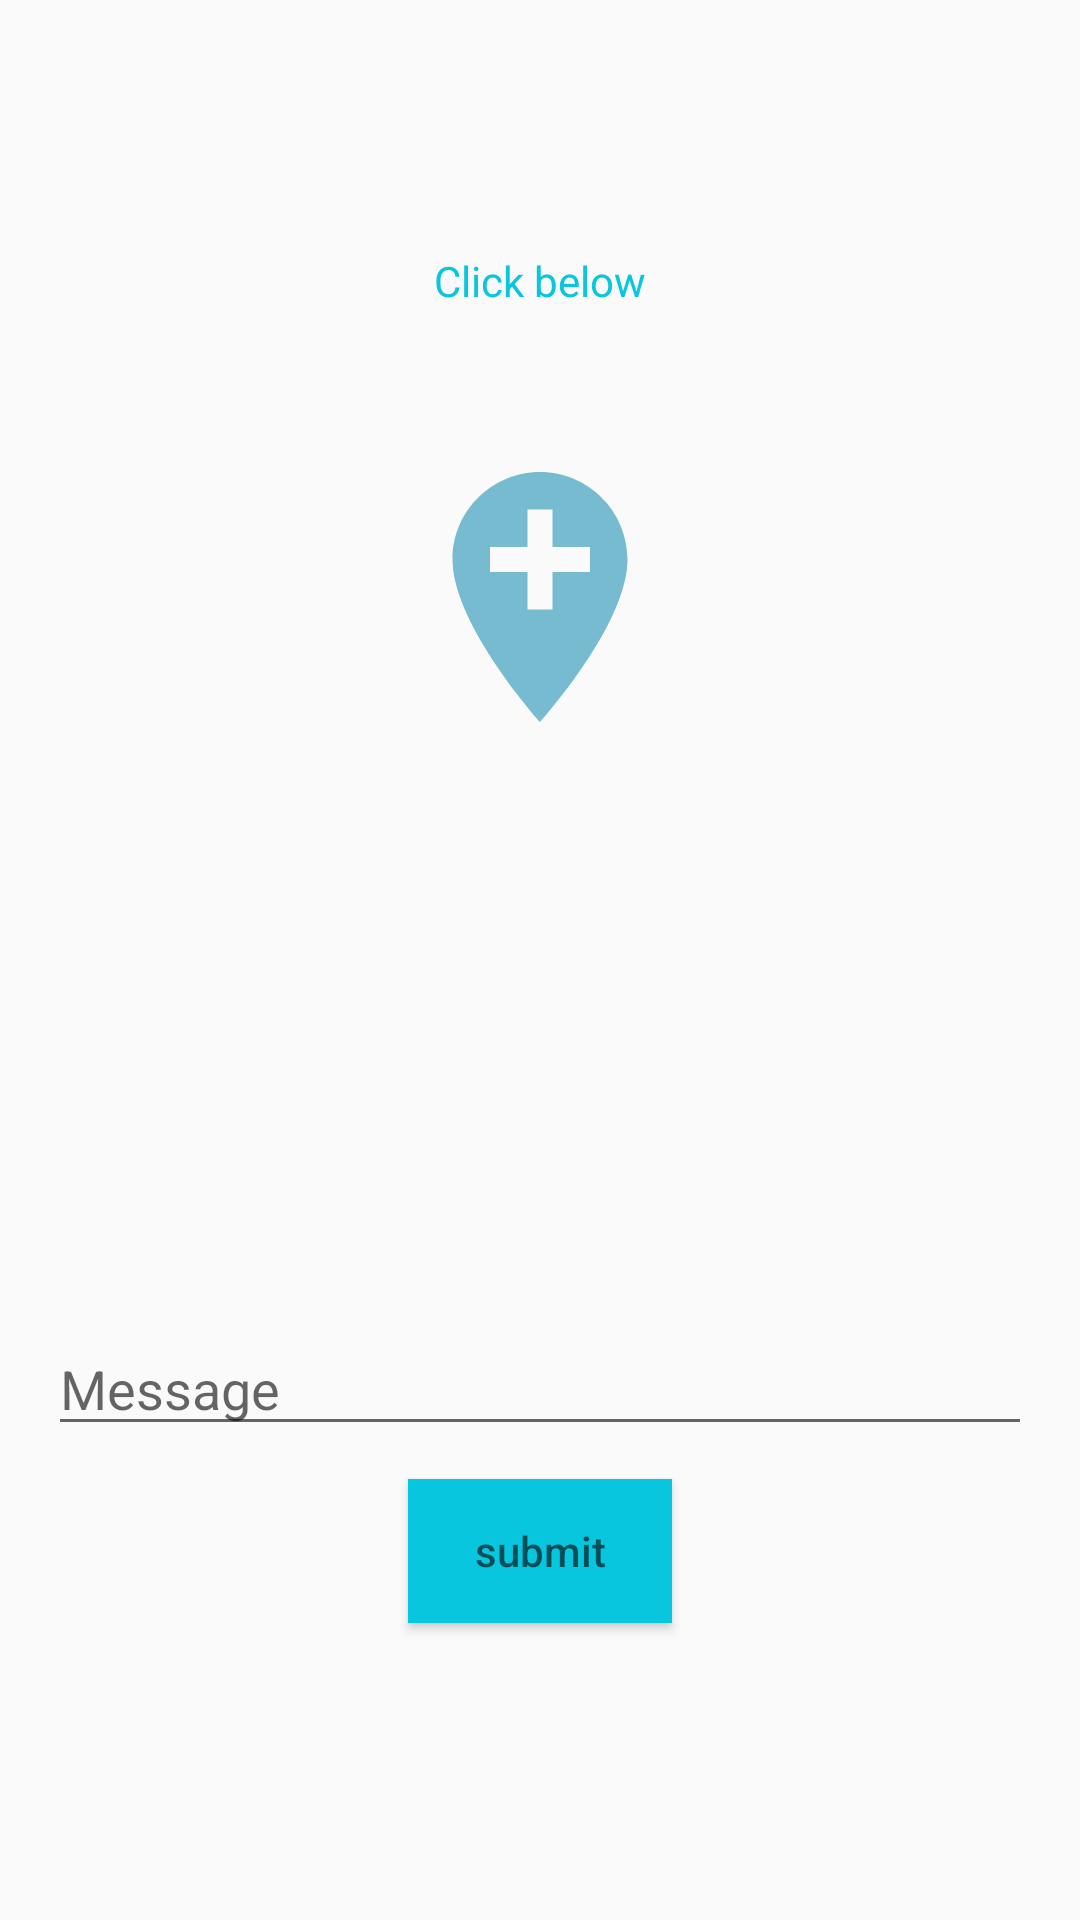

Point at icon controls on the screen. Image size 1080 × 1920, points as (x,y).
add location: (540,597)
